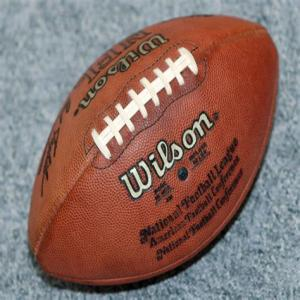Rugby: (27, 14, 279, 286)
